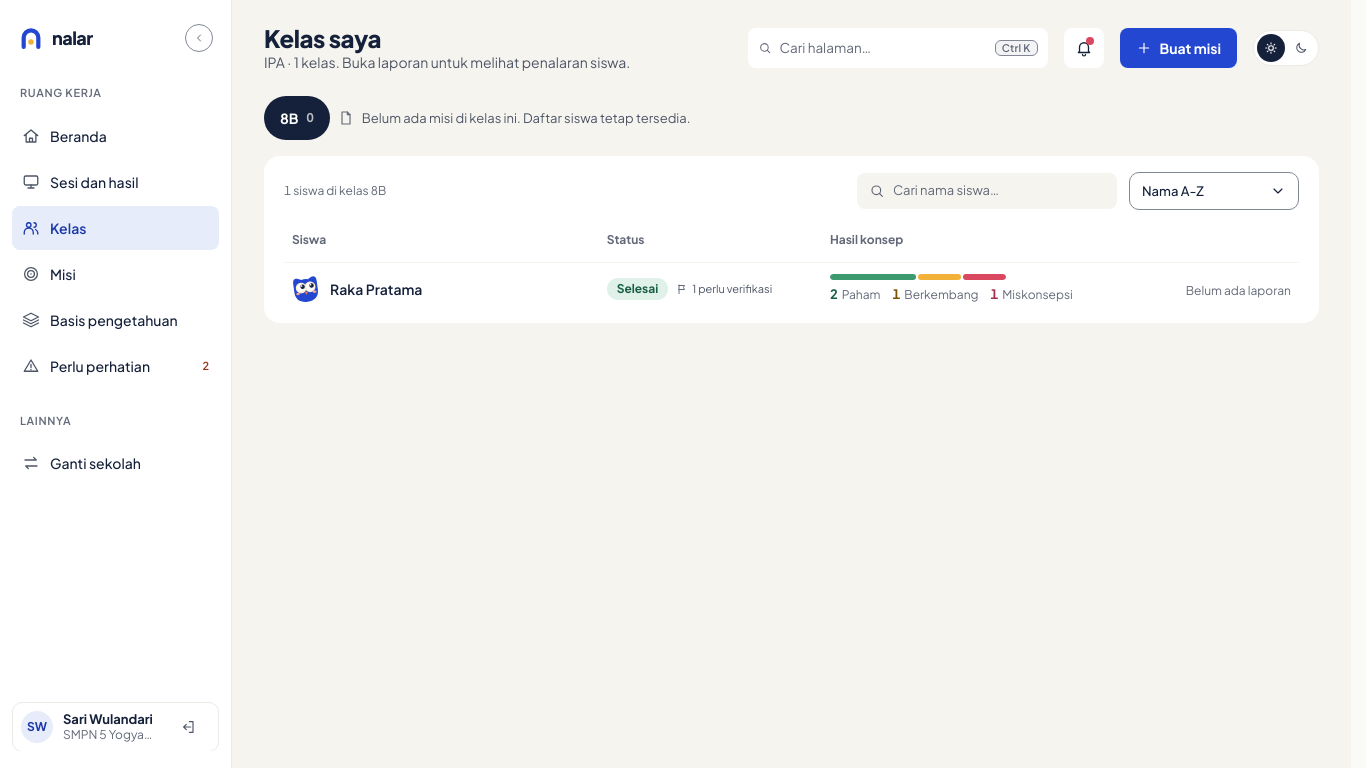
signed-in teacher pages › opens a student’s history from the roster, grouped by school year with final scores
The image size is (1366, 768).
Click the link "Raka Pratama" at (376, 289), box x1=330 y1=279 x2=422 y2=299
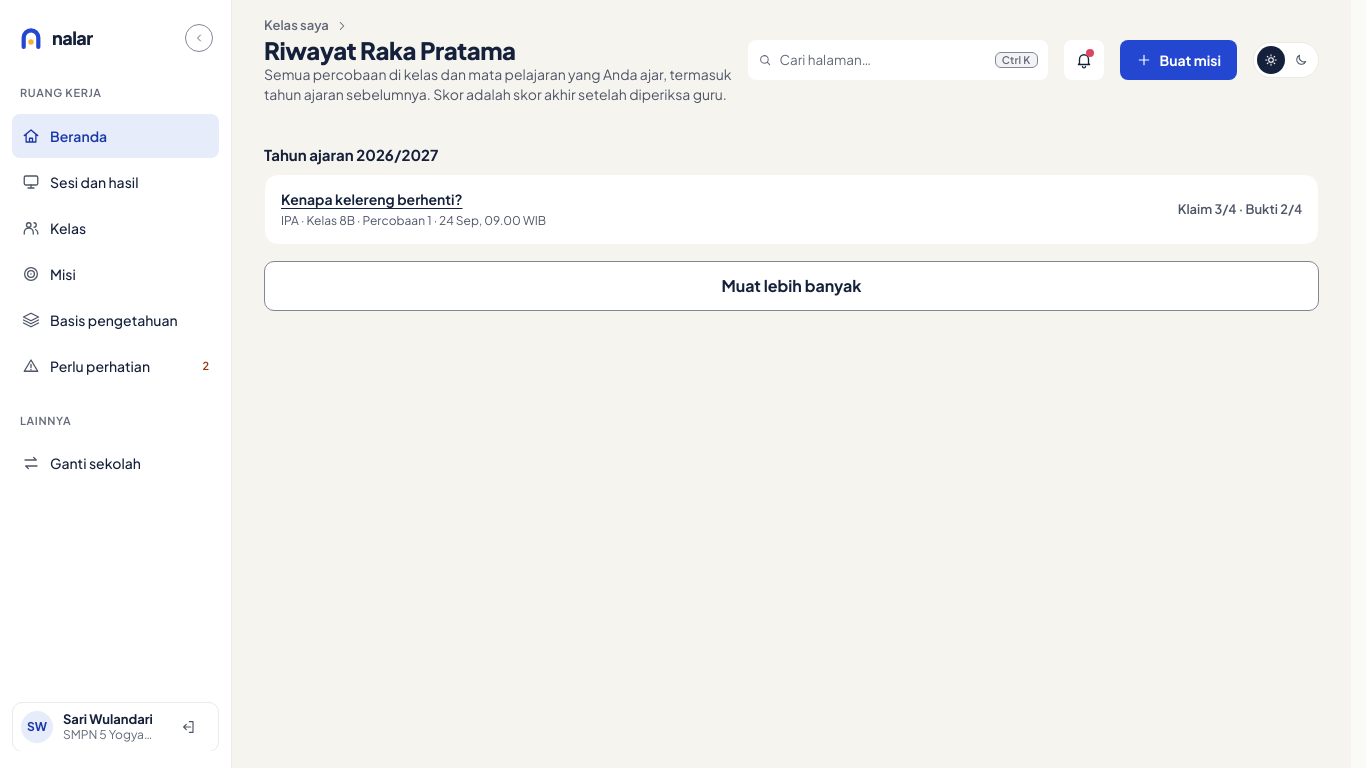
Expected: the heading "Riwayat Raka Pratama" is shown, x1=264 y1=36 x2=516 y2=64
Expected: the text "Klaim 3/4 · Bukti 2/4" is shown, x1=1178 y1=200 x2=1302 y2=220
Click the button "Muat lebih banyak" at (792, 286), box x1=264 y1=261 x2=1319 y2=311
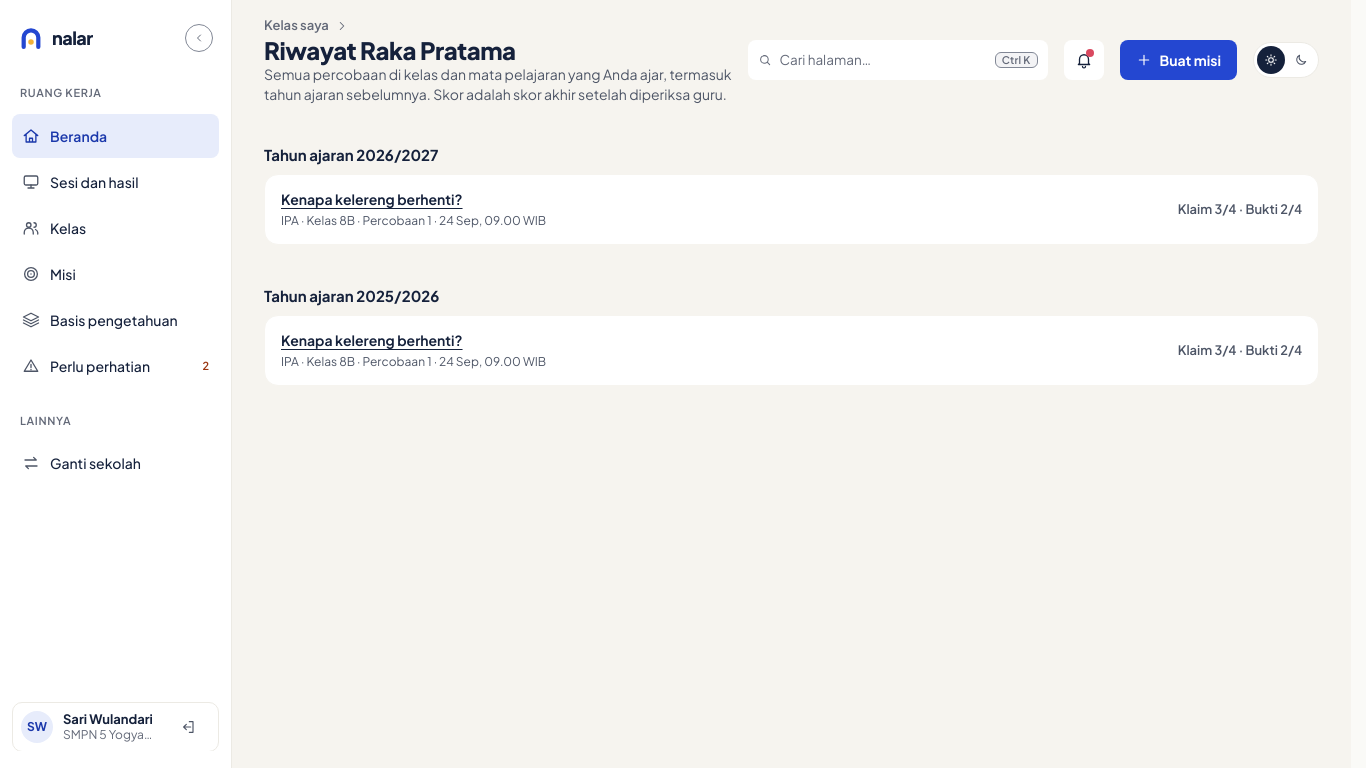
Expected: the heading "Tahun ajaran 2026/2027" is shown, x1=264 y1=145 x2=438 y2=164
Expected: the heading "Tahun ajaran 2025/2026" is shown, x1=264 y1=286 x2=439 y2=305
